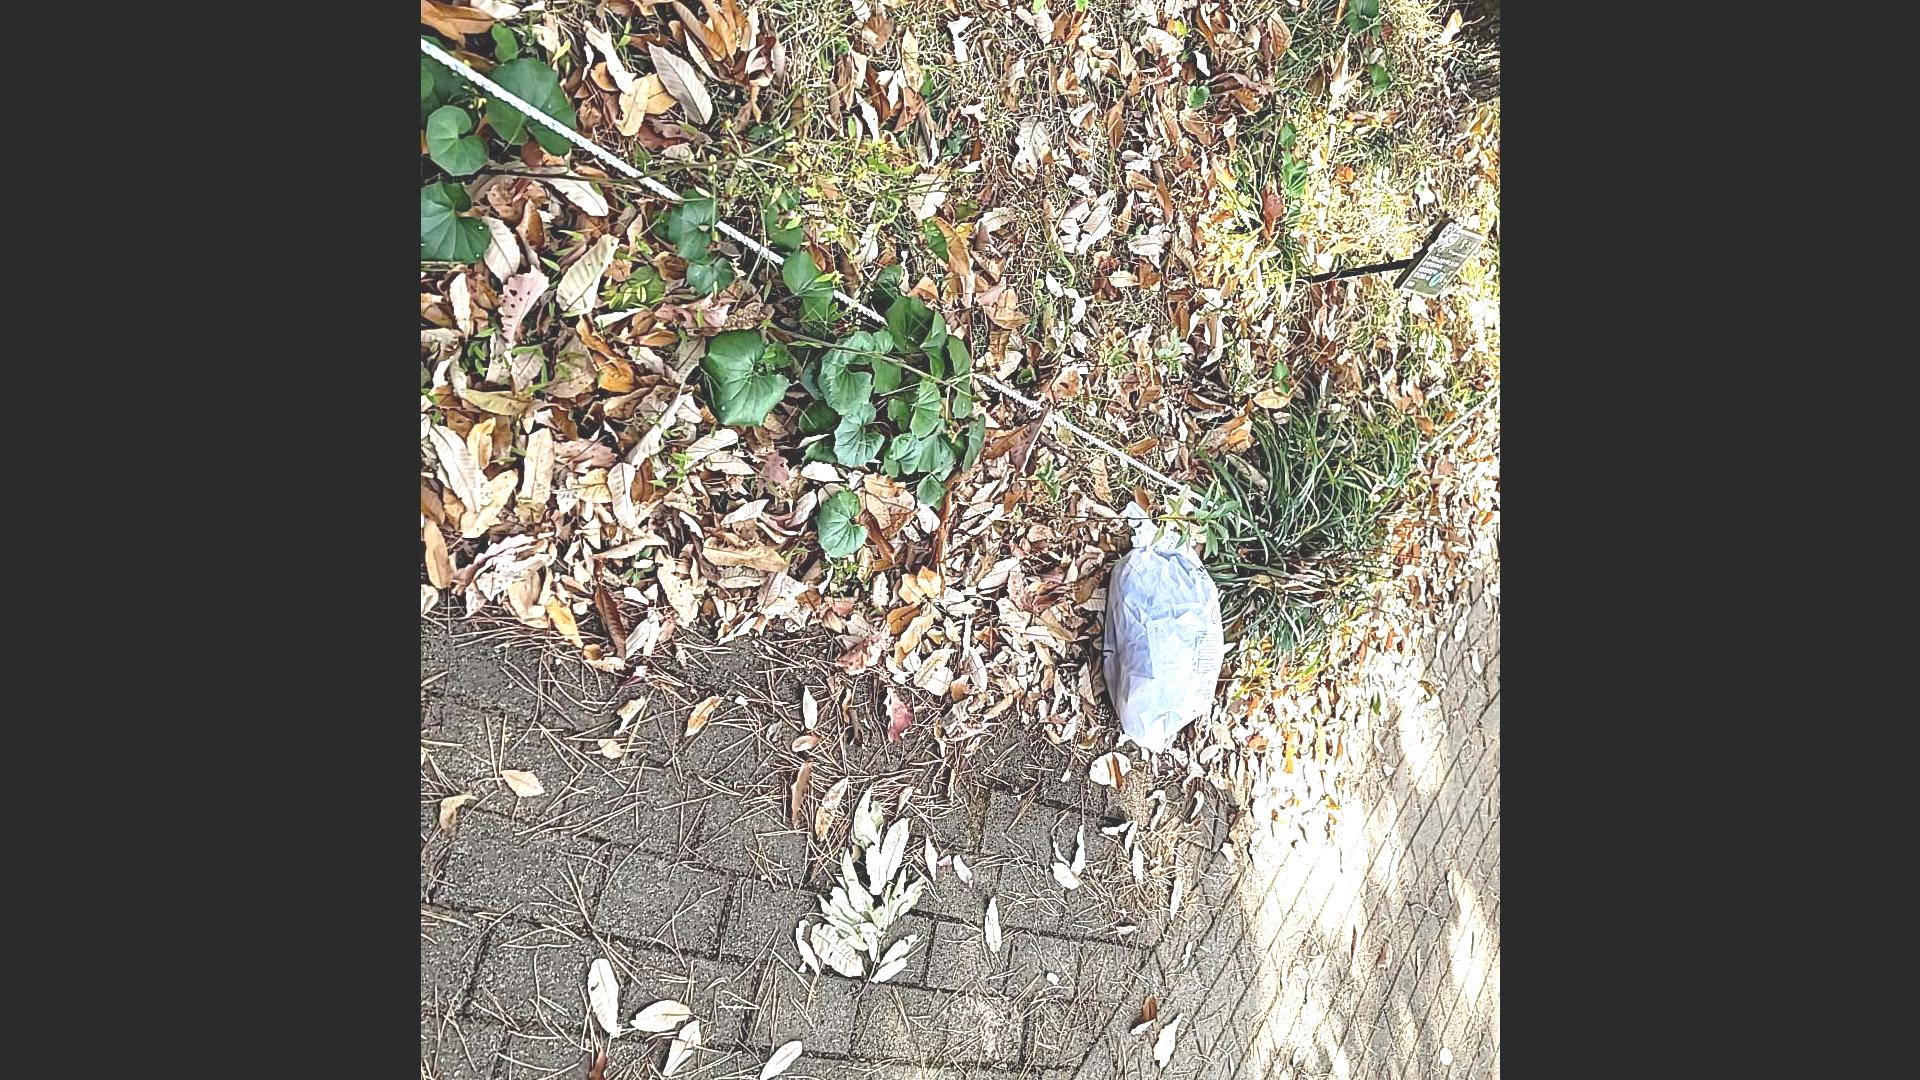white_bag: (1087, 510, 1238, 761)
